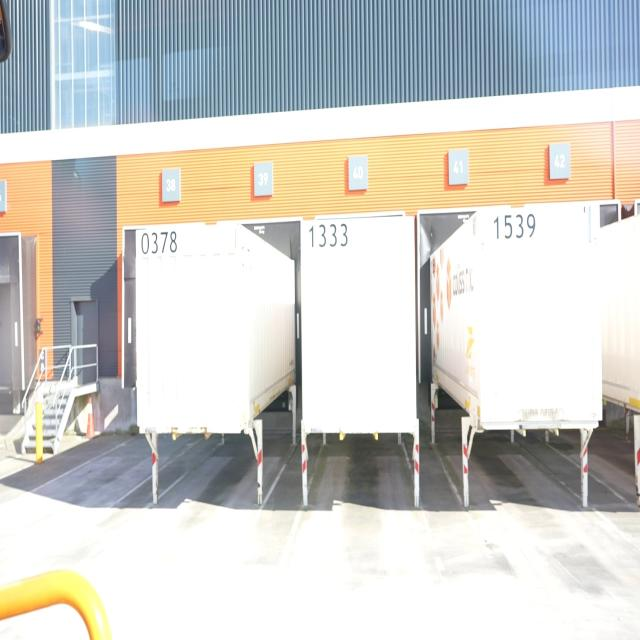Code: (489, 211, 538, 242), (307, 221, 352, 254), (139, 230, 182, 260)
